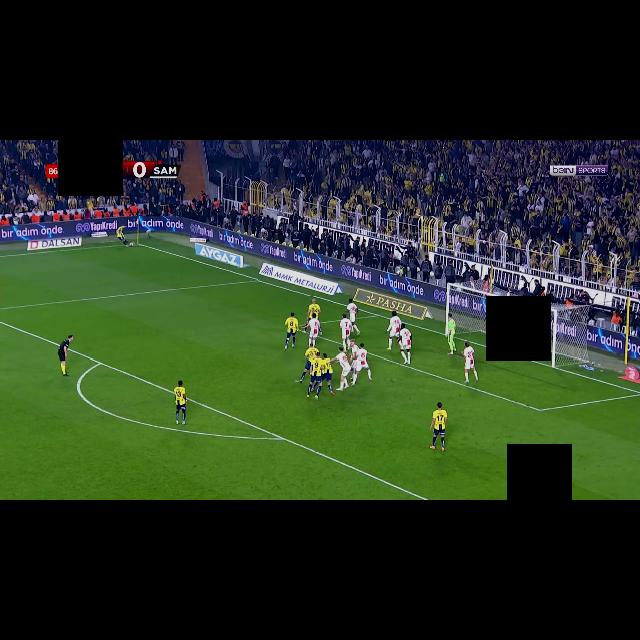billboard: (0, 216, 639, 359), (258, 263, 339, 296), (353, 289, 427, 320), (194, 243, 241, 269), (27, 236, 82, 252), (502, 320, 540, 341), (190, 238, 207, 243), (90, 233, 109, 237)
